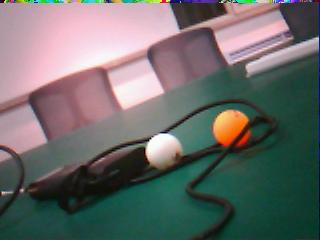oball: (214, 109, 250, 147)
